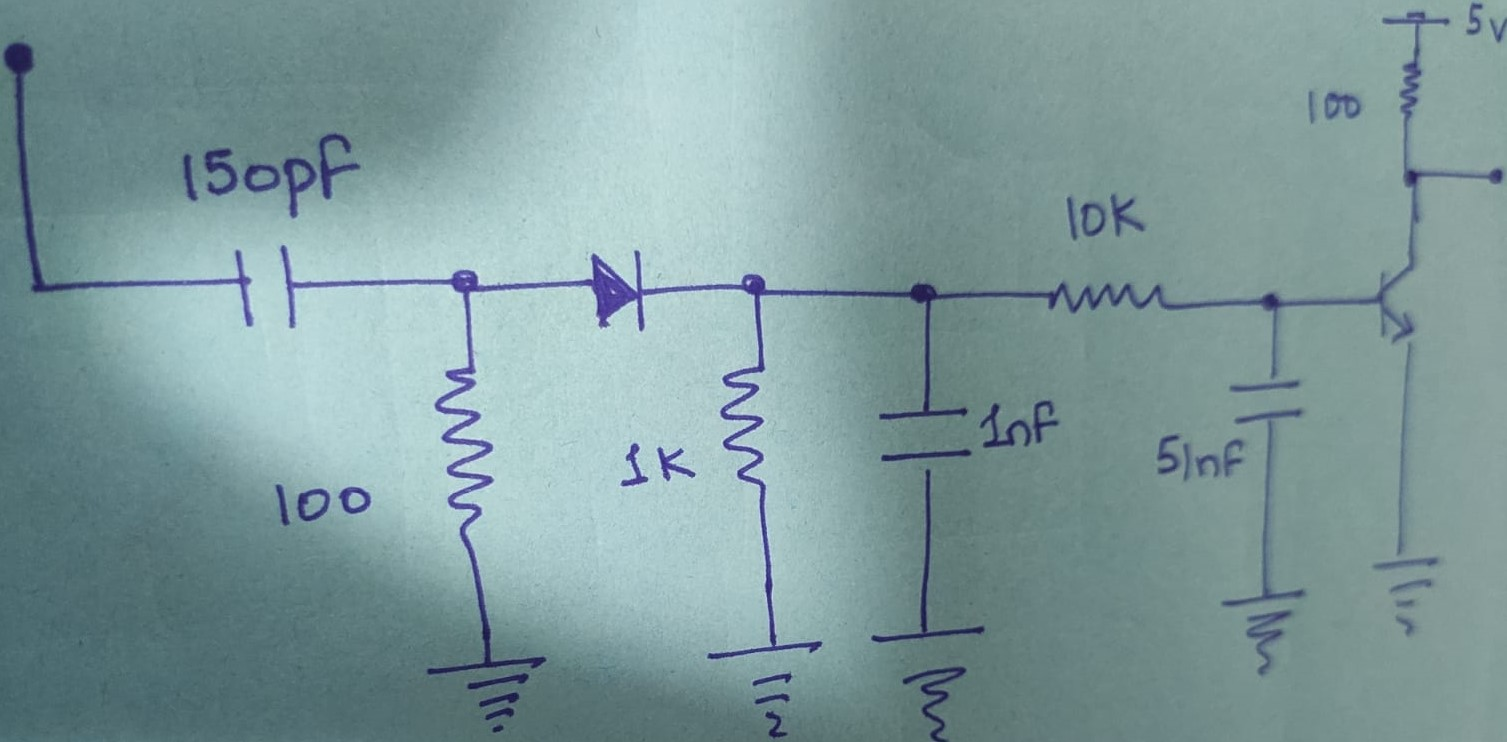capacitor.unpolarized: (876, 406, 973, 473), (228, 247, 302, 330), (1229, 376, 1304, 424)
diode: (583, 248, 649, 331)
gnd: (863, 616, 993, 742), (704, 638, 829, 741), (422, 649, 553, 742), (1227, 586, 1305, 678), (1372, 550, 1441, 651)
junction: (903, 279, 948, 316), (446, 267, 486, 302), (27, 269, 61, 307), (739, 269, 775, 302), (1255, 290, 1293, 318), (1399, 165, 1429, 193)
resistor: (429, 359, 502, 533), (710, 356, 779, 498), (1044, 277, 1175, 316), (1399, 57, 1424, 124)
terminal: (1, 38, 41, 82), (1484, 167, 1507, 188)
text: (184, 136, 359, 209), (271, 478, 379, 530), (1152, 435, 1247, 485), (1061, 190, 1152, 242), (613, 433, 697, 486), (982, 396, 1060, 450), (1304, 84, 1372, 127), (1463, 1, 1507, 40)
transistor: (1368, 256, 1425, 352)
voltage.dc: (1378, 7, 1460, 34)
